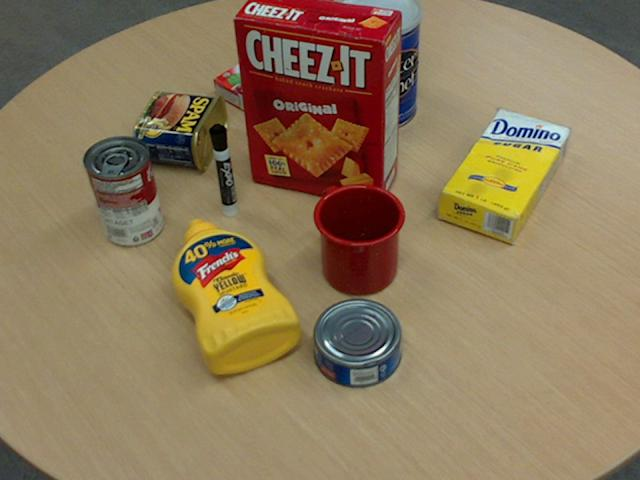cracker_box: (234, 0, 402, 204)
gelatin_box: (211, 53, 298, 118)
large_marker: (208, 123, 237, 217)
master_chef_can: (334, 0, 421, 131)
mug: (312, 182, 405, 294)
mustard_bottle: (170, 218, 301, 373)
potted_meat_can: (132, 90, 227, 169)
sugar_box: (438, 109, 570, 243)
tomato_soup_can: (82, 134, 161, 244)
tuna_fish_can: (313, 298, 402, 387)
